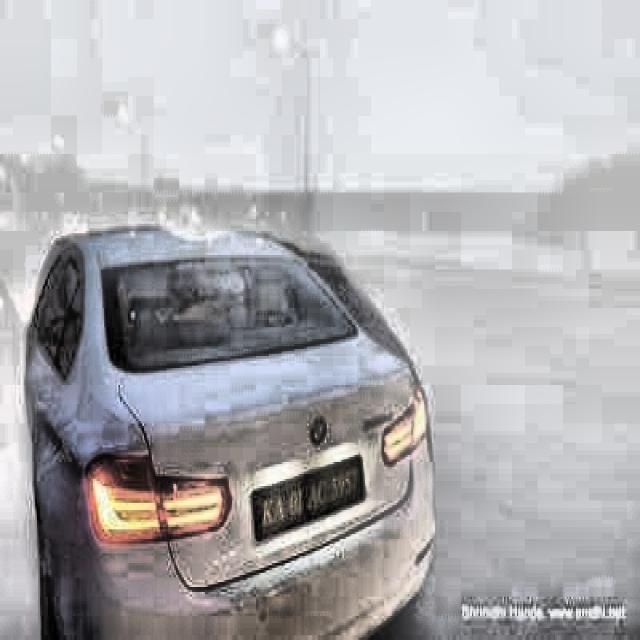license_plate: (254, 461, 365, 532)
